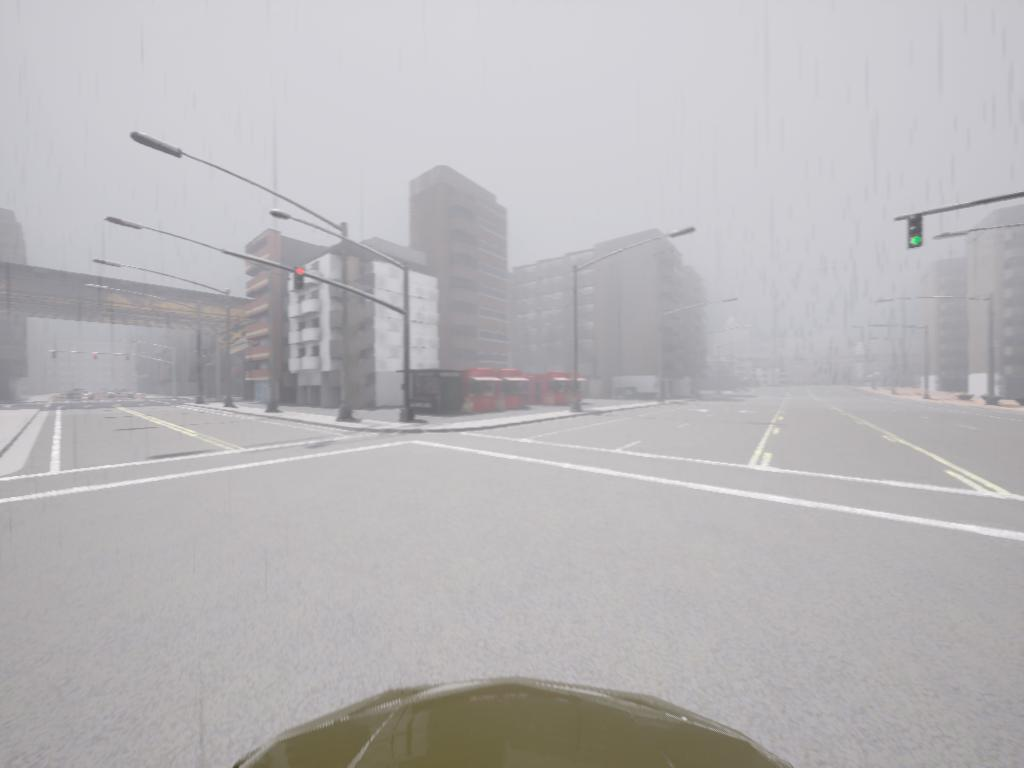traffic_light: (910, 220, 926, 250), (296, 269, 311, 292)
